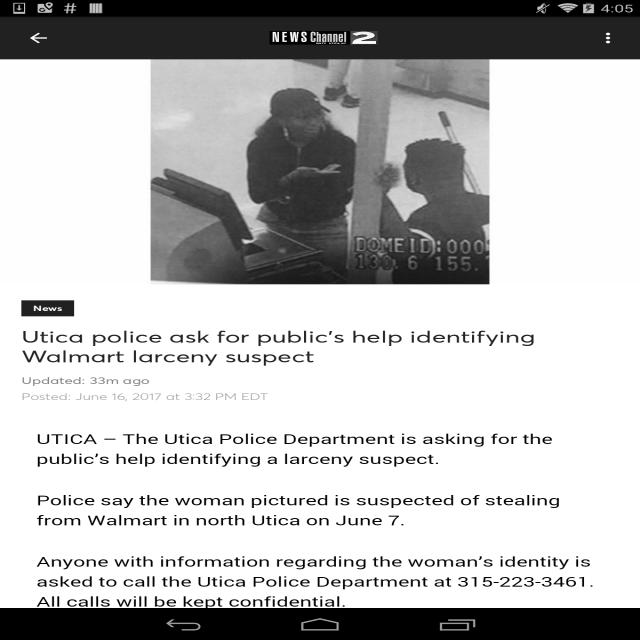ImageButton: (9, 17, 68, 59)
ImageView: (0, 59, 640, 284), (261, 22, 388, 54), (589, 22, 631, 54)
TextView: (21, 316, 619, 375), (21, 391, 619, 418), (21, 374, 619, 390), (21, 300, 74, 316)
